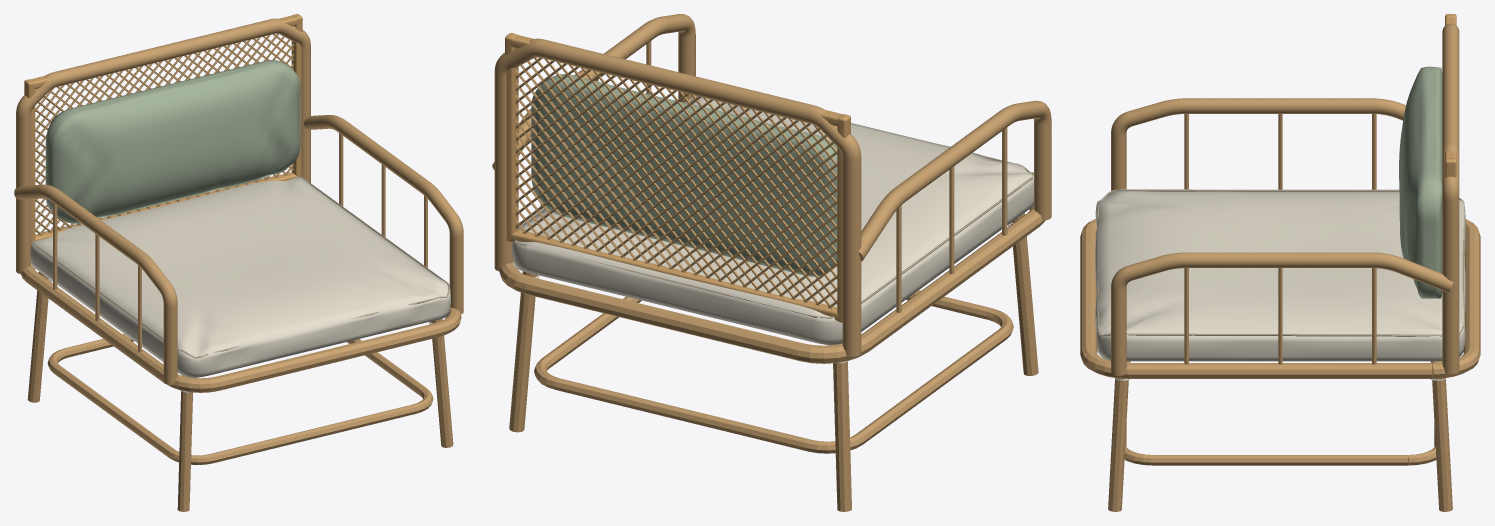
The model's file is designed-sunroom-chair.glb.
The picture shows the model from 3 angles, left to right: view 1: azimuth 30°, elevation 25°; view 2: azimuth 150°, elevation 25°; view 3: azimuth 270°, elevation 25°; orthographic projection. The views are drawn at different scales.
Visible parts, largest first — view 1: catalog_surface_RealismUV; view 2: catalog_surface_RealismUV; view 3: catalog_surface_RealismUV.
Part boxes in pixels (x1,y1,x2,y2): catalog_surface_RealismUV: (14, 14, 463, 511); catalog_surface_RealismUV: (492, 14, 1051, 511); catalog_surface_RealismUV: (1080, 14, 1480, 511).
Size of the model in its own units: 0.76 by 0.78 by 0.8.
